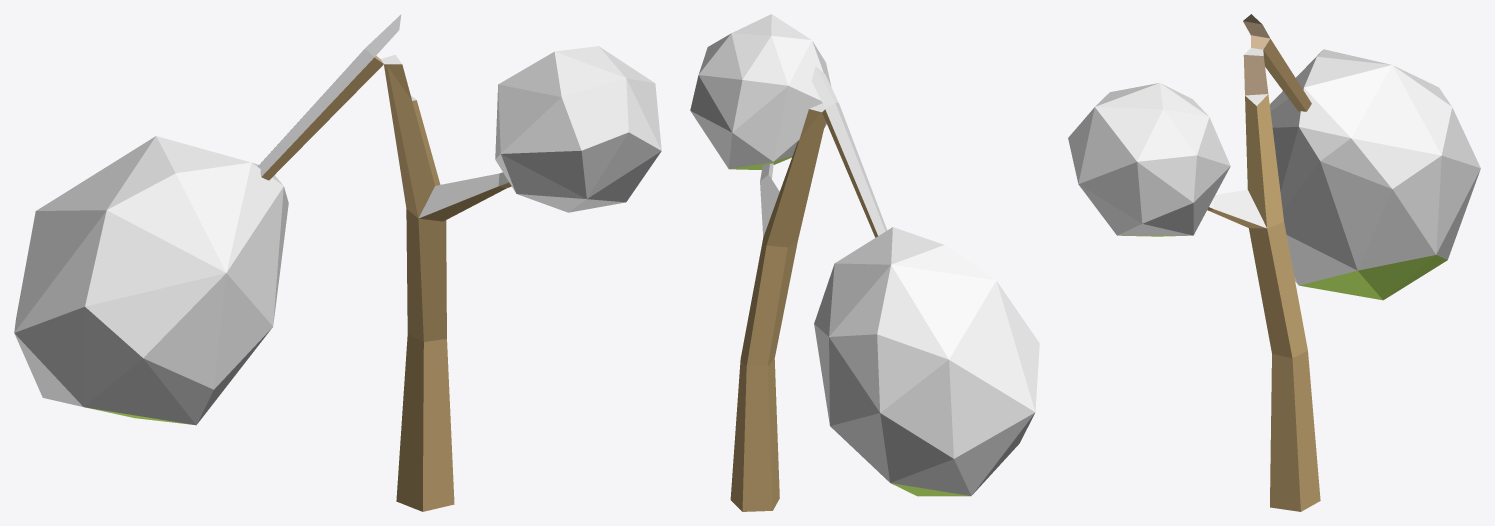
Rendered from Simple_Tree_crk_s_Snow_02.fbx.
The picture shows the model from 3 angles, left to right: view 1: azimuth 30°, elevation 25°; view 2: azimuth 150°, elevation 25°; view 3: azimuth 270°, elevation 25°; orthographic projection. The views are drawn at different scales.
Visible parts, largest first — view 1: Simple_Tree_crk_s_Snow_02; view 2: Simple_Tree_crk_s_Snow_02; view 3: Simple_Tree_crk_s_Snow_02.
Part boxes in pixels (x1=…): Simple_Tree_crk_s_Snow_02: x1=14, y1=14, x2=661, y2=511; Simple_Tree_crk_s_Snow_02: x1=690, y1=14, x2=1039, y2=511; Simple_Tree_crk_s_Snow_02: x1=1068, y1=14, x2=1480, y2=511.
Size of the model in its own units: 251 by 239 by 192.
